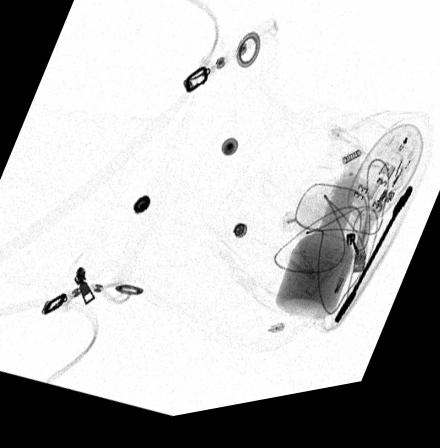Wrench: (334, 199, 412, 338)
